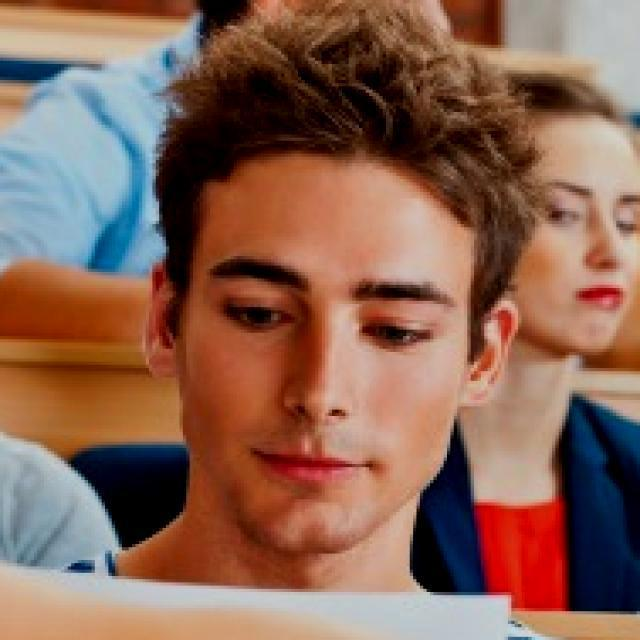Looking away: (508, 118, 640, 352)
Looking forward: (182, 147, 474, 547)
